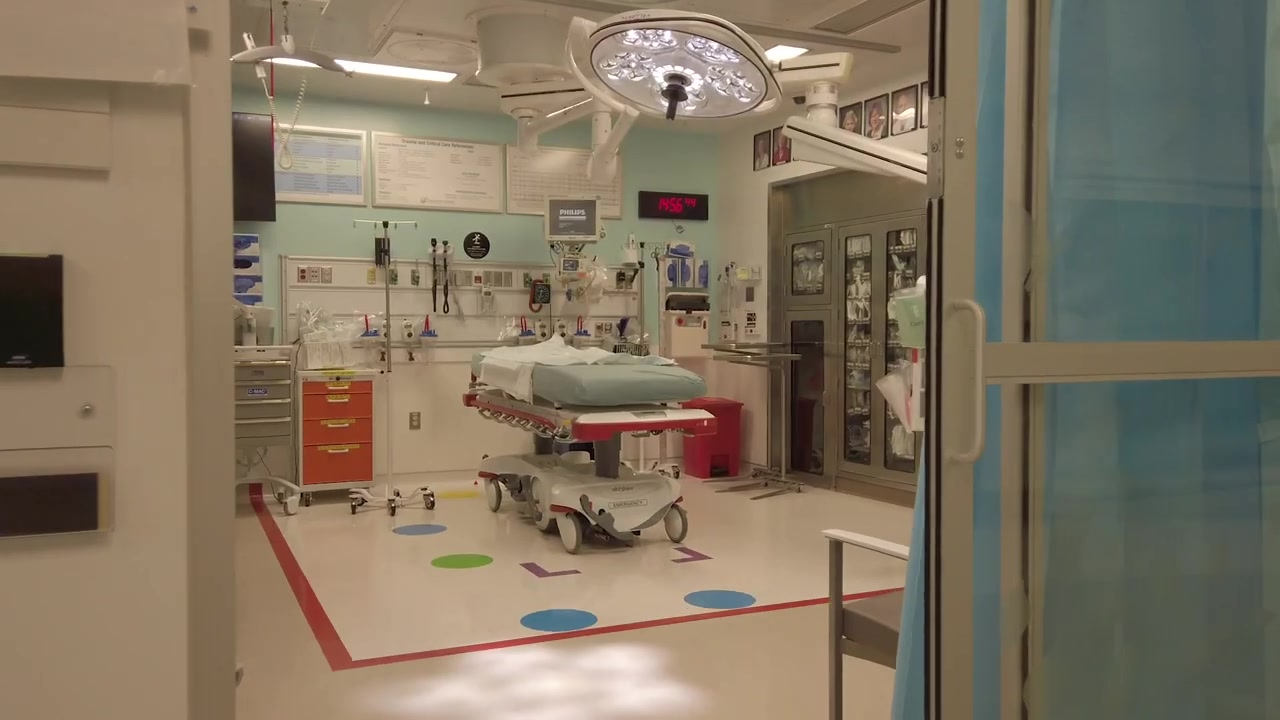TV: (234, 111, 279, 224)
bedside_monitor: (544, 193, 599, 245)
cabinet: (781, 214, 926, 488)
chair: (818, 530, 912, 720)
dispenser: (234, 231, 266, 306)
door_handle: (945, 296, 987, 464)
handle: (237, 417, 293, 425), (236, 398, 292, 405), (236, 379, 292, 386), (237, 361, 290, 367), (324, 384, 351, 391), (327, 447, 350, 455), (326, 397, 349, 404), (326, 422, 349, 429)
iv_pole: (352, 218, 419, 491), (630, 242, 652, 357), (653, 246, 674, 356)
medical_drawer: (295, 368, 375, 507), (234, 358, 301, 512)
operating_bed: (462, 345, 706, 554)
surgical_light: (583, 6, 788, 137)
utility_cart: (713, 352, 804, 500), (700, 343, 787, 478)
waste_bin: (679, 397, 744, 479)
